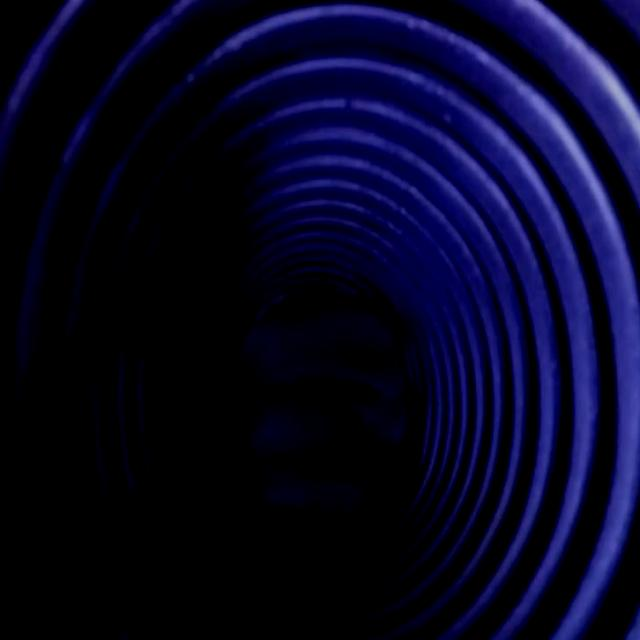block: (229, 279, 412, 522)
